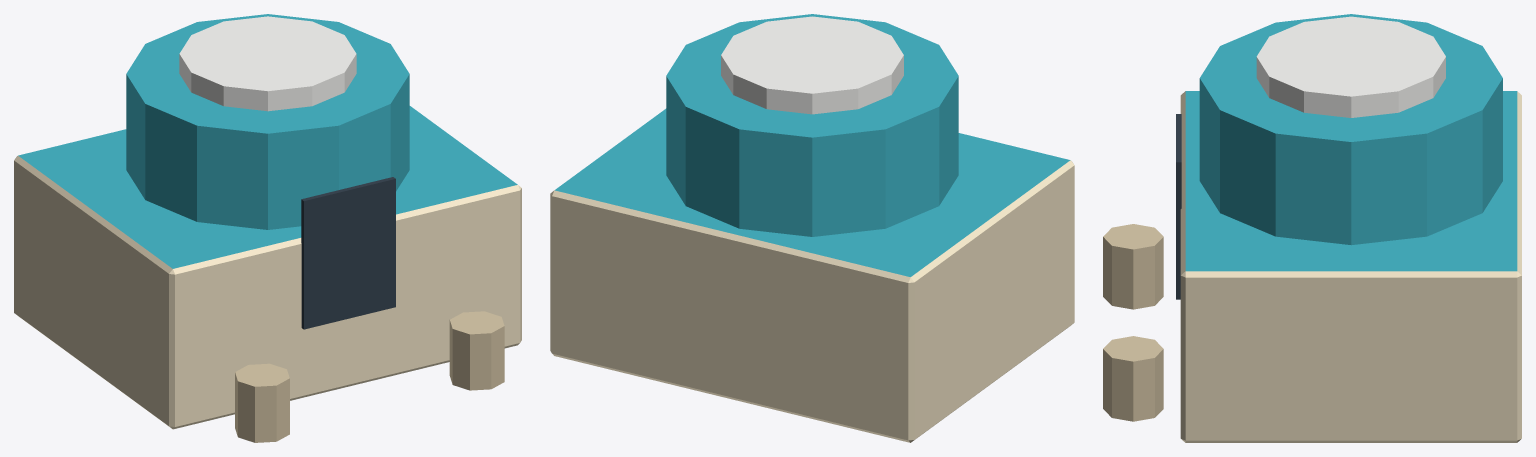
Rendered from hatchery.fbx.
3 renders of one model, left to right at view 1: azimuth 30°, elevation 25°; view 2: azimuth 150°, elevation 25°; view 3: azimuth 270°, elevation 25°, orthographic. The views are drawn at different scales.
Visible parts, largest first — view 1: hatchery; view 2: hatchery; view 3: hatchery.
Boxes of the visible parts, left/top/right/bottom form: hatchery: left=14, top=14, right=521, bottom=442; hatchery: left=550, top=14, right=1074, bottom=442; hatchery: left=1103, top=14, right=1521, bottom=442.
Bounding box in the file's own units: 4.6 × 3.45 × 4.42.
